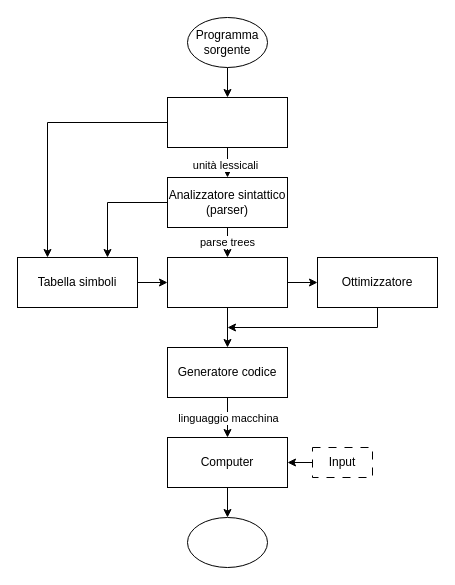
Some shapes in this 455 by 585 pixel diagram are drawn without their labels. The centre of each missing label's shape, as x and y in pixels:
"Analizzatore lessicale (scanner)" belongs at point 227,122.
"Generatore codice intermedio" belongs at point 227,282.
"Risultato" belongs at point 227,542.
